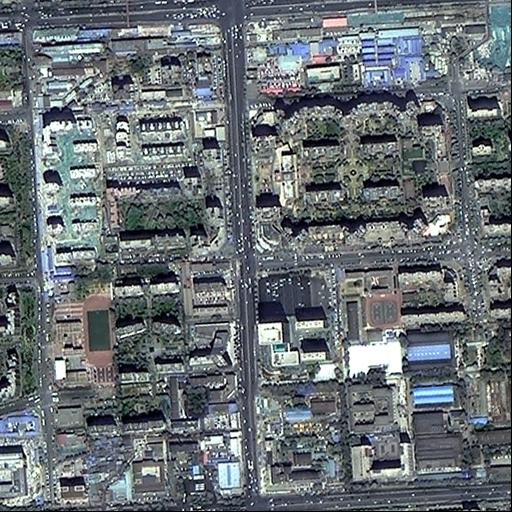school: (44, 270, 117, 390), (337, 265, 402, 343)
